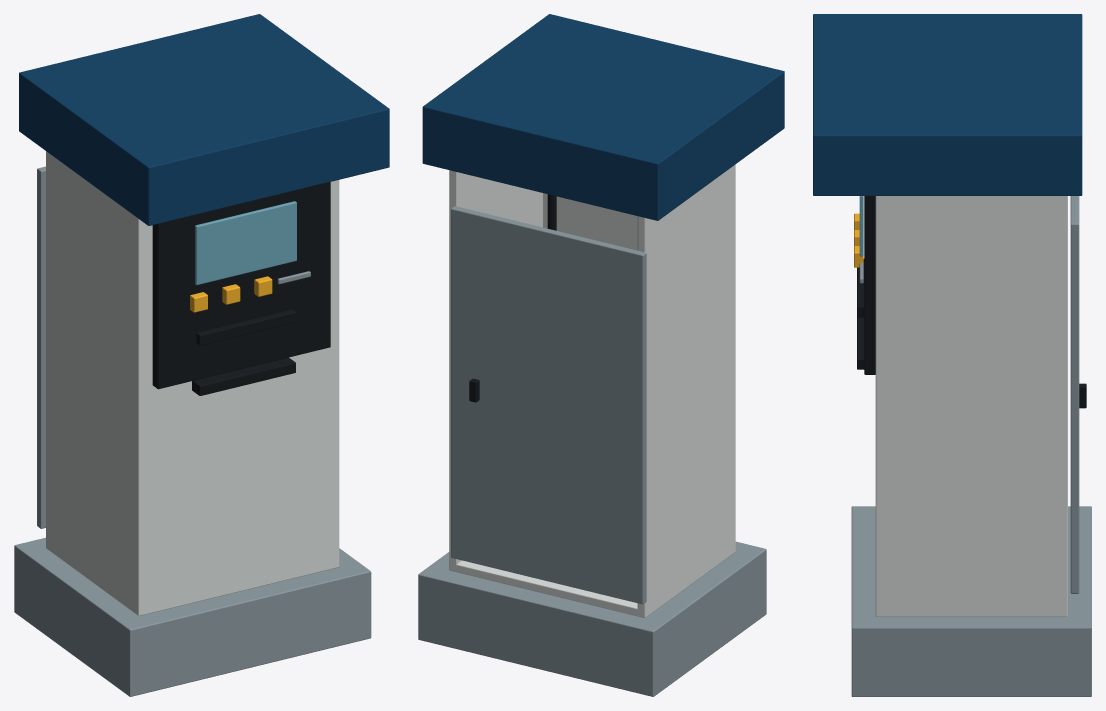
The picture shows the model from 3 angles, left to right: view 1: azimuth 30°, elevation 25°; view 2: azimuth 150°, elevation 25°; view 3: azimuth 270°, elevation 25°; orthographic projection. The views are drawn at different scales.
Visible parts, largest first — view 1: HOOD, ENCLOSURE_Front, ENCLOSURE_Side, PLINTH, FACE_Recess, SCREEN, SERVICE_Door, ENCLOSURE_Cap, ENCLOSURE_Side.001, TICKET_Mouth.001, TICKET_Mouth; view 2: SERVICE_Door, HOOD, ENCLOSURE_Side, PLINTH, ENCLOSURE_Front, ENCLOSURE_Side.001, ENCLOSURE_Cap; view 3: ENCLOSURE_Side.001, HOOD, PLINTH, SERVICE_Door, ENCLOSURE_Front, FACE_Recess, ENCLOSURE_Cap.
Boxes of the visible parts, left/top/right/bottom form: HOOD: left=19, top=14, right=389, bottom=225; ENCLOSURE_Front: left=134, top=180, right=339, bottom=615; ENCLOSURE_Side: left=46, top=151, right=145, bottom=615; PLINTH: left=14, top=537, right=371, bottom=696; FACE_Recess: left=152, top=182, right=330, bottom=389; SCREEN: left=195, top=201, right=296, bottom=284; SERVICE_Door: left=37, top=166, right=45, bottom=528; ENCLOSURE_Cap: left=46, top=541, right=339, bottom=615; ENCLOSURE_Side.001: left=332, top=181, right=339, bottom=568; TICKET_Mouth.001: left=192, top=357, right=295, bottom=395; TICKET_Mouth: left=196, top=309, right=295, bottom=345; SERVICE_Door: left=451, top=206, right=646, bottom=604; HOOD: left=422, top=14, right=784, bottom=220; ENCLOSURE_Side: left=637, top=165, right=735, bottom=617; PLINTH: left=418, top=541, right=766, bottom=696; ENCLOSURE_Front: left=543, top=164, right=735, bottom=547; ENCLOSURE_Side.001: left=449, top=170, right=542, bottom=571; ENCLOSURE_Cap: left=449, top=545, right=735, bottom=617; ENCLOSURE_Side.001: left=875, top=196, right=1067, bottom=616; HOOD: left=813, top=14, right=1082, bottom=195; PLINTH: left=851, top=506, right=1091, bottom=696; SERVICE_Door: left=1070, top=196, right=1079, bottom=593; ENCLOSURE_Front: left=876, top=196, right=884, bottom=616; FACE_Recess: left=864, top=196, right=875, bottom=374; ENCLOSURE_Cap: left=876, top=609, right=1067, bottom=616.
Size of the model in its own units: 0.6 by 1.29 by 0.58.
